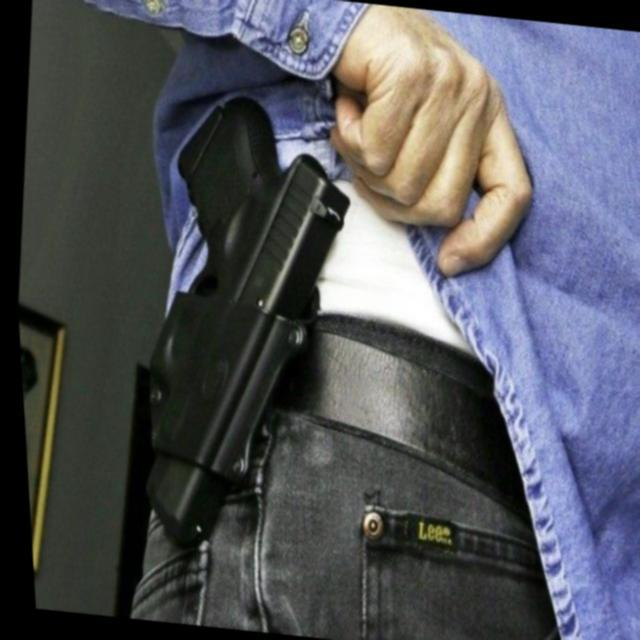weapon: (110, 86, 374, 562)
